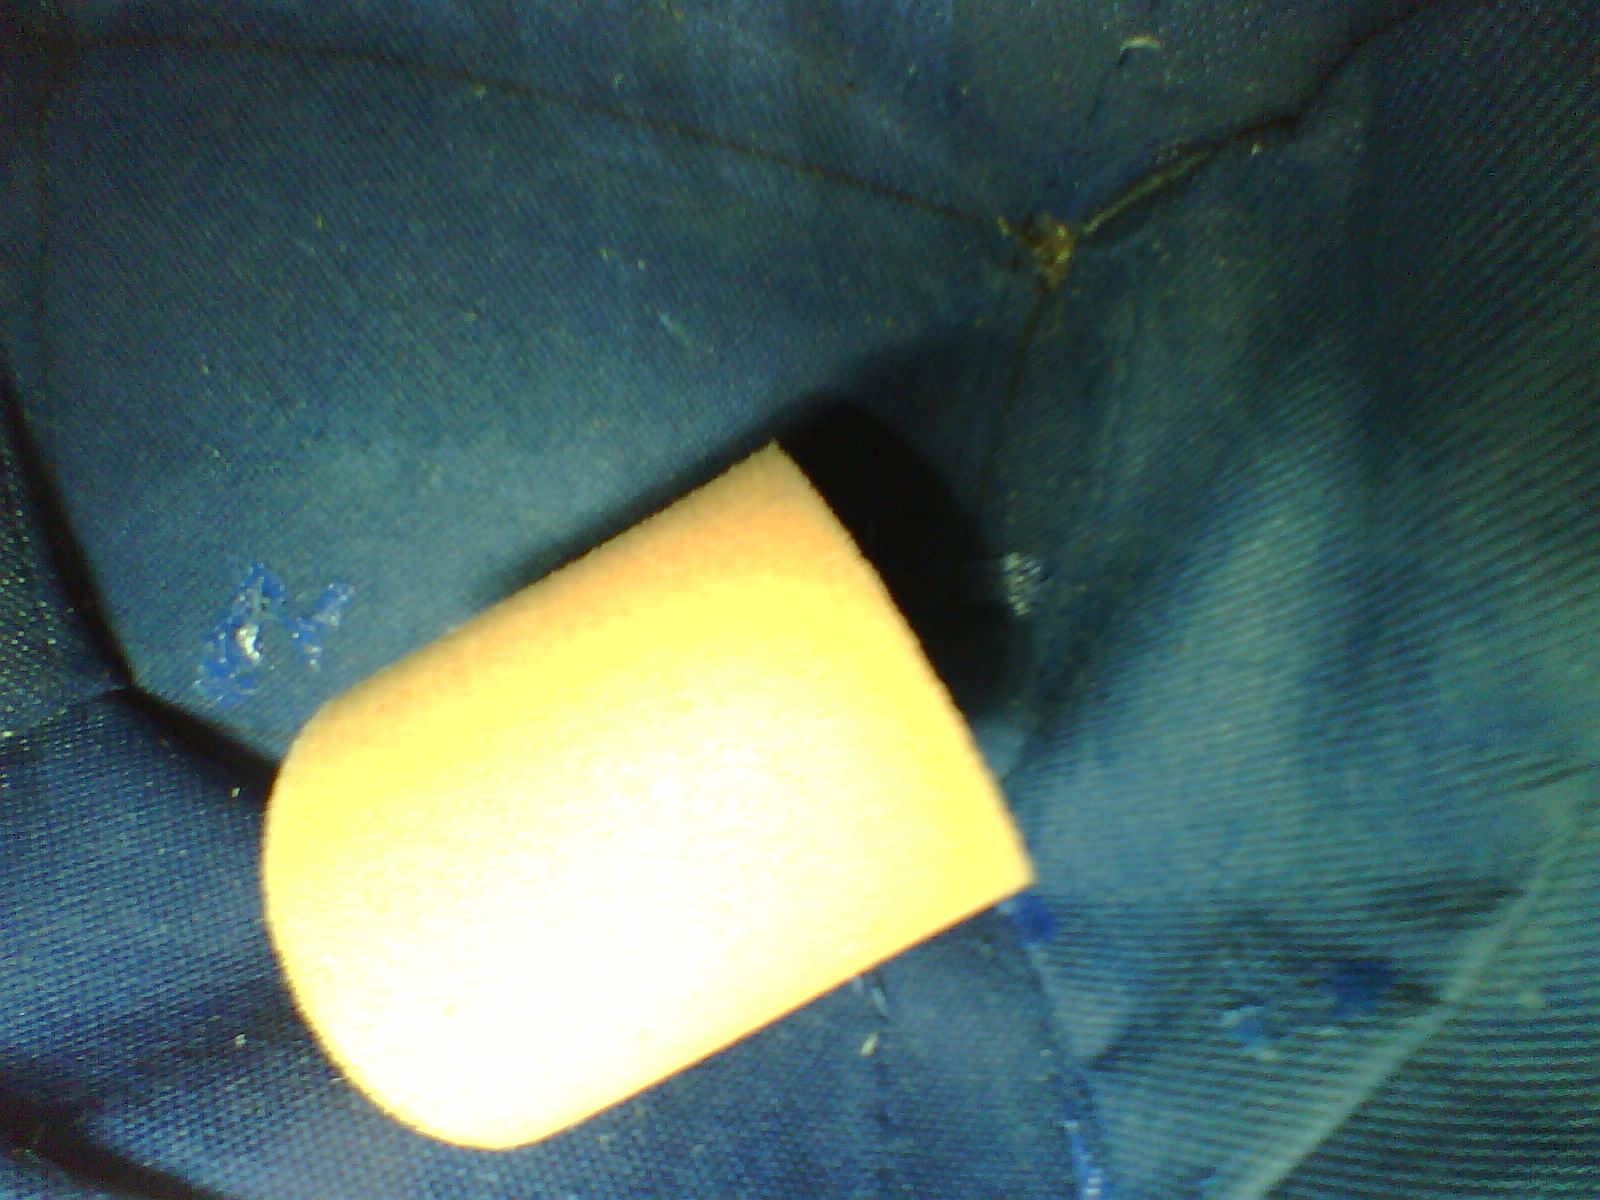cylinder-soft: (242, 416, 1061, 1184)
